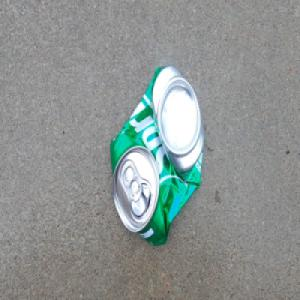SodaCan: (107, 64, 205, 249)
